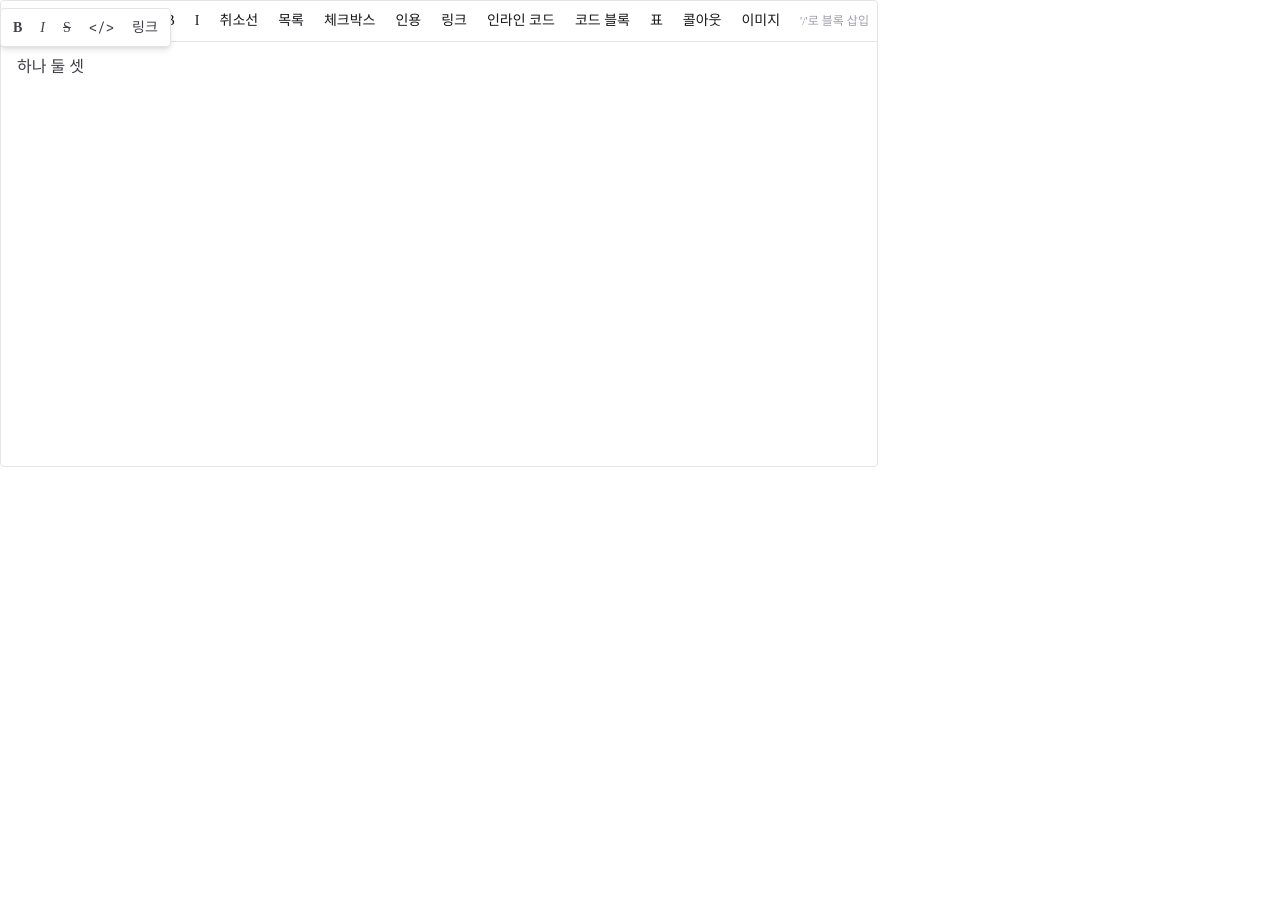
Test: 선택 영역 서식 메뉴 (버블 메뉴) › 링크 버튼은 툴바의 링크 버튼과 같은 주소 입력 팝업을 연다
This screenshot has width=1280, height=900.
Expected: the field labelled "하나 둘 셋" is shown, [17,58,84,75]
What coordinates should you click on to do the following:
click the button with aria-label "선택 영역 링크"
I would click on:
 (145, 28)
Its box is [124,14,166,42].
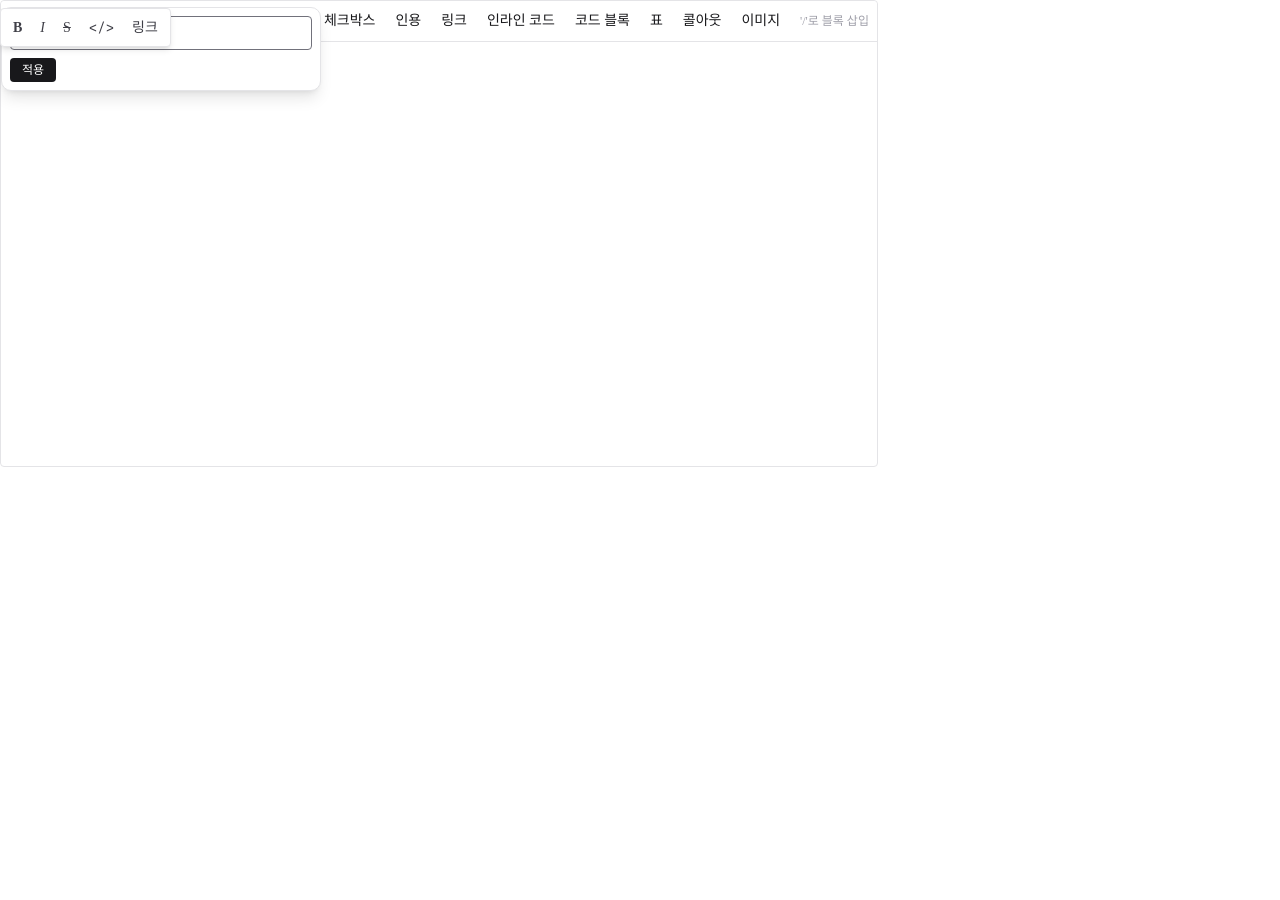
Expected: the field named "링크 주소" is shown, [10,16,312,50]
